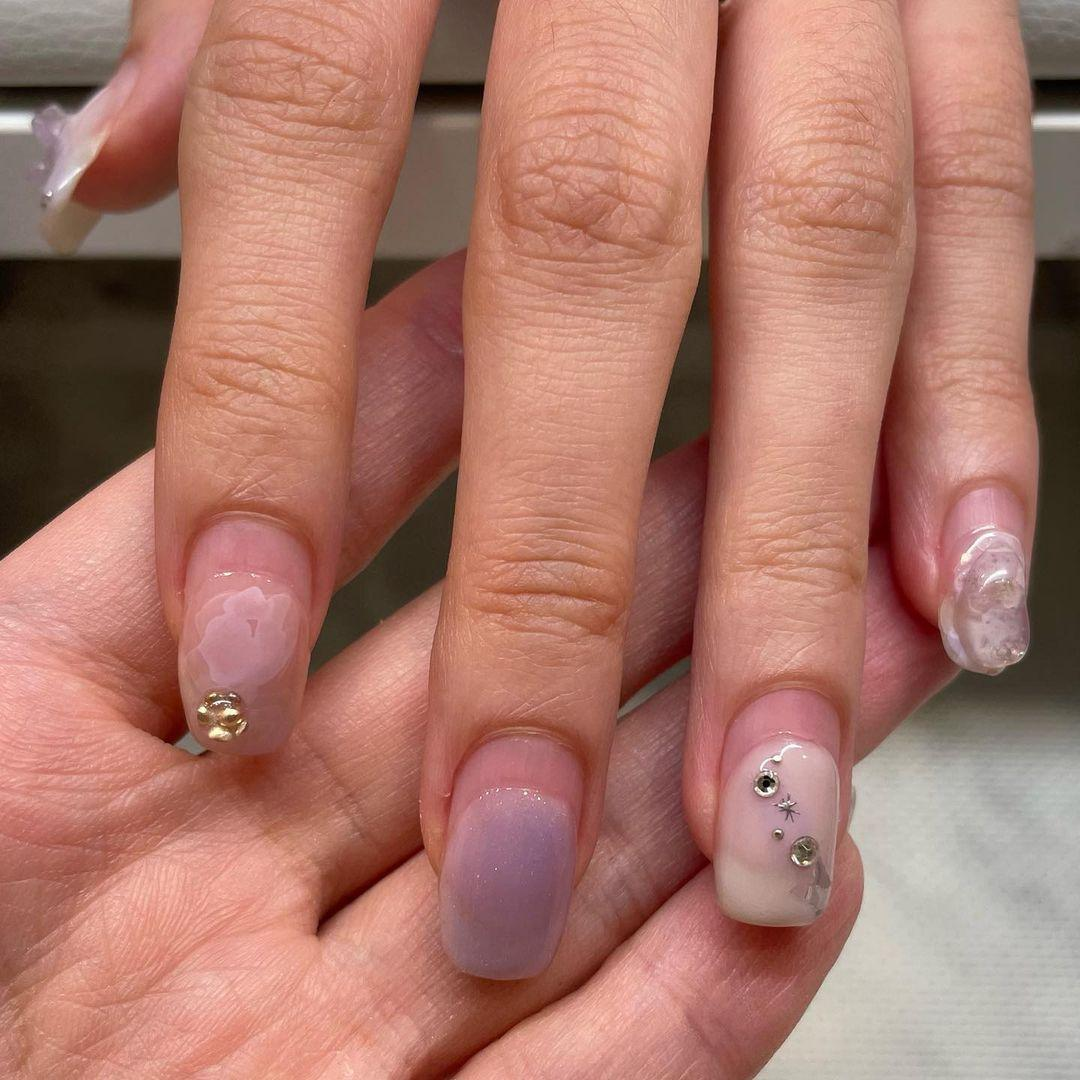nail: (435, 727, 586, 981), (174, 510, 317, 757), (710, 687, 843, 928), (936, 526, 1031, 676)
